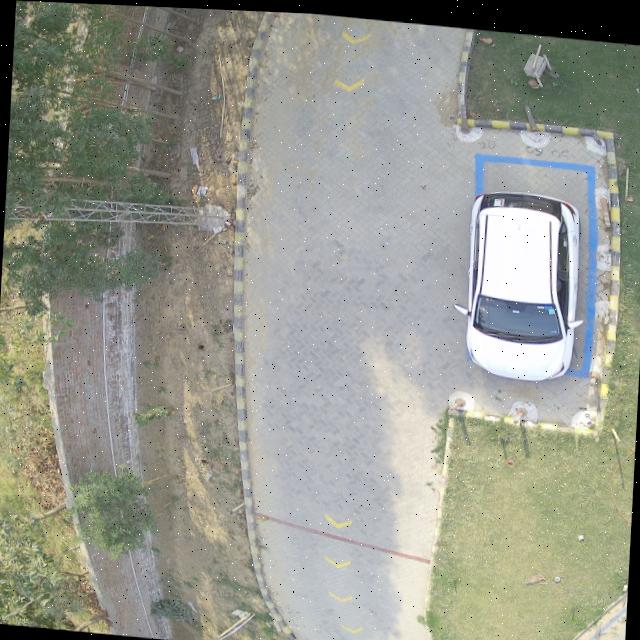car: (466, 186, 580, 376)
